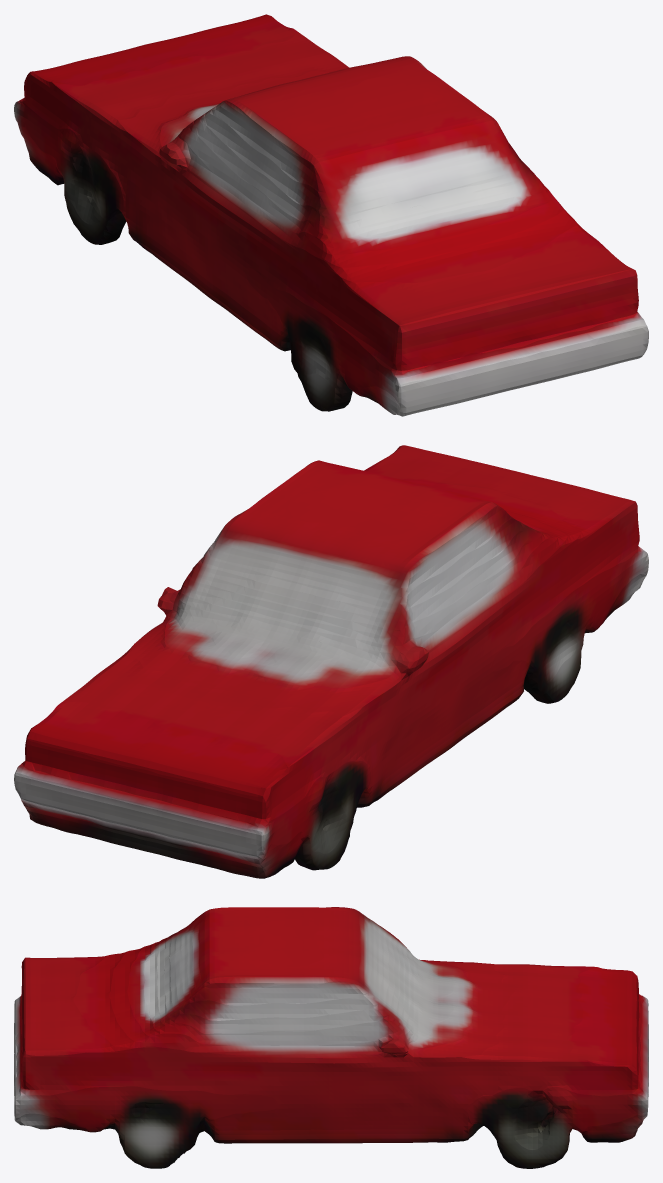
Rendered from a_simple_honda_sedan_car_1795874024.glb.
The picture shows the model from 3 angles, top to bottom: view 1: azimuth 30°, elevation 25°; view 2: azimuth 150°, elevation 25°; view 3: azimuth 270°, elevation 25°; orthographic projection. The views are drawn at different scales.
Parts seen in each view (by area): view 1: tmpifurebql.ply; view 2: tmpifurebql.ply; view 3: tmpifurebql.ply.
Part boxes in pixels (x1,y1,x2,y2): tmpifurebql.ply: [14, 14, 648, 416]; tmpifurebql.ply: [14, 445, 648, 878]; tmpifurebql.ply: [14, 907, 648, 1168].
Size of the model in its own units: 0.7634 by 0.6122 by 1.98.
